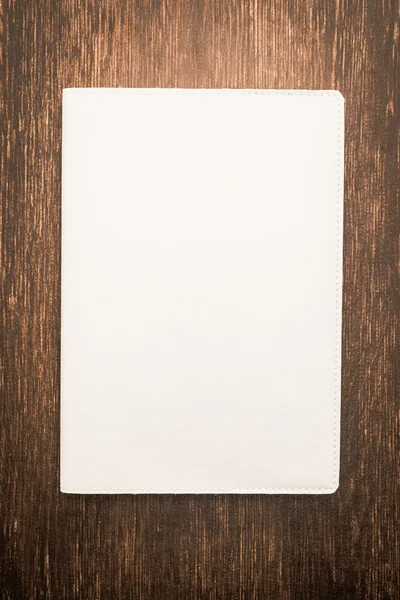page: (63, 88, 342, 494)
